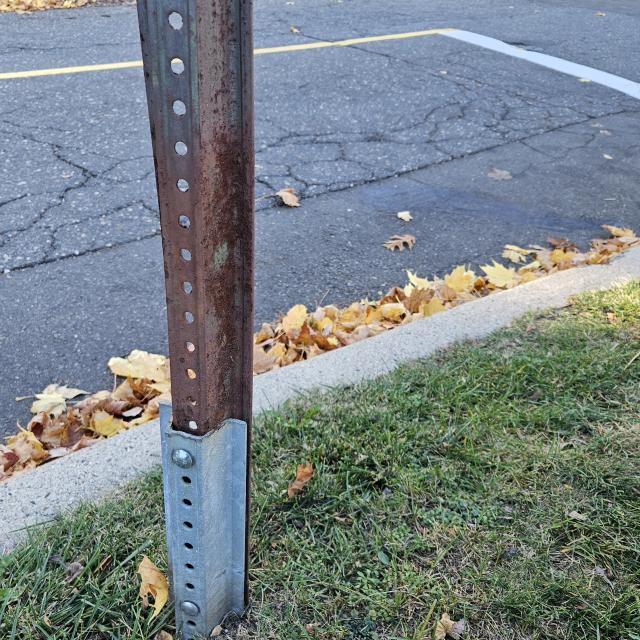Uniform Corrosion: (154, 7, 259, 436)
